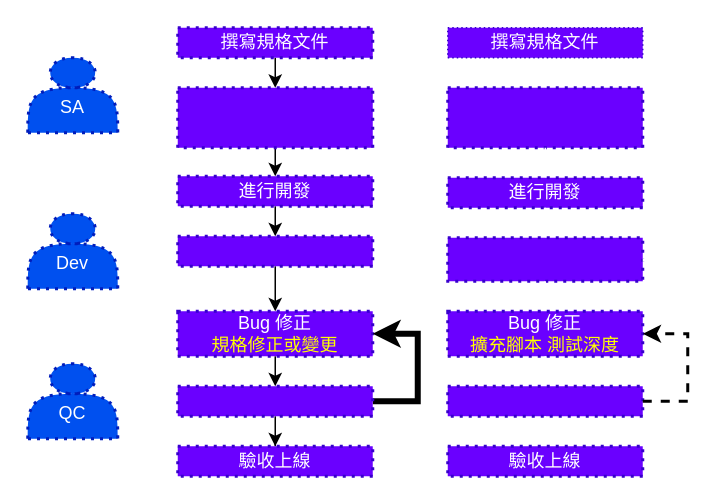
Image size: 726x503. Some labels were removed from this diagram. The shapes that lost their labels are listed below. From the top down, each one's centre as x and y in pixels, then its label:
At (275,117): "讀取規格文件 理解和熟記開發規範".
At (545,117): "撰寫 BDD 腳本 撰寫 規範腳本".
At (275,250): "開發階段測試".
At (545,259): "依據 BDD 腳本 自動化測試".
At (275,400): "提交驗正 及整合測試".
At (545,400): "整合測試".
